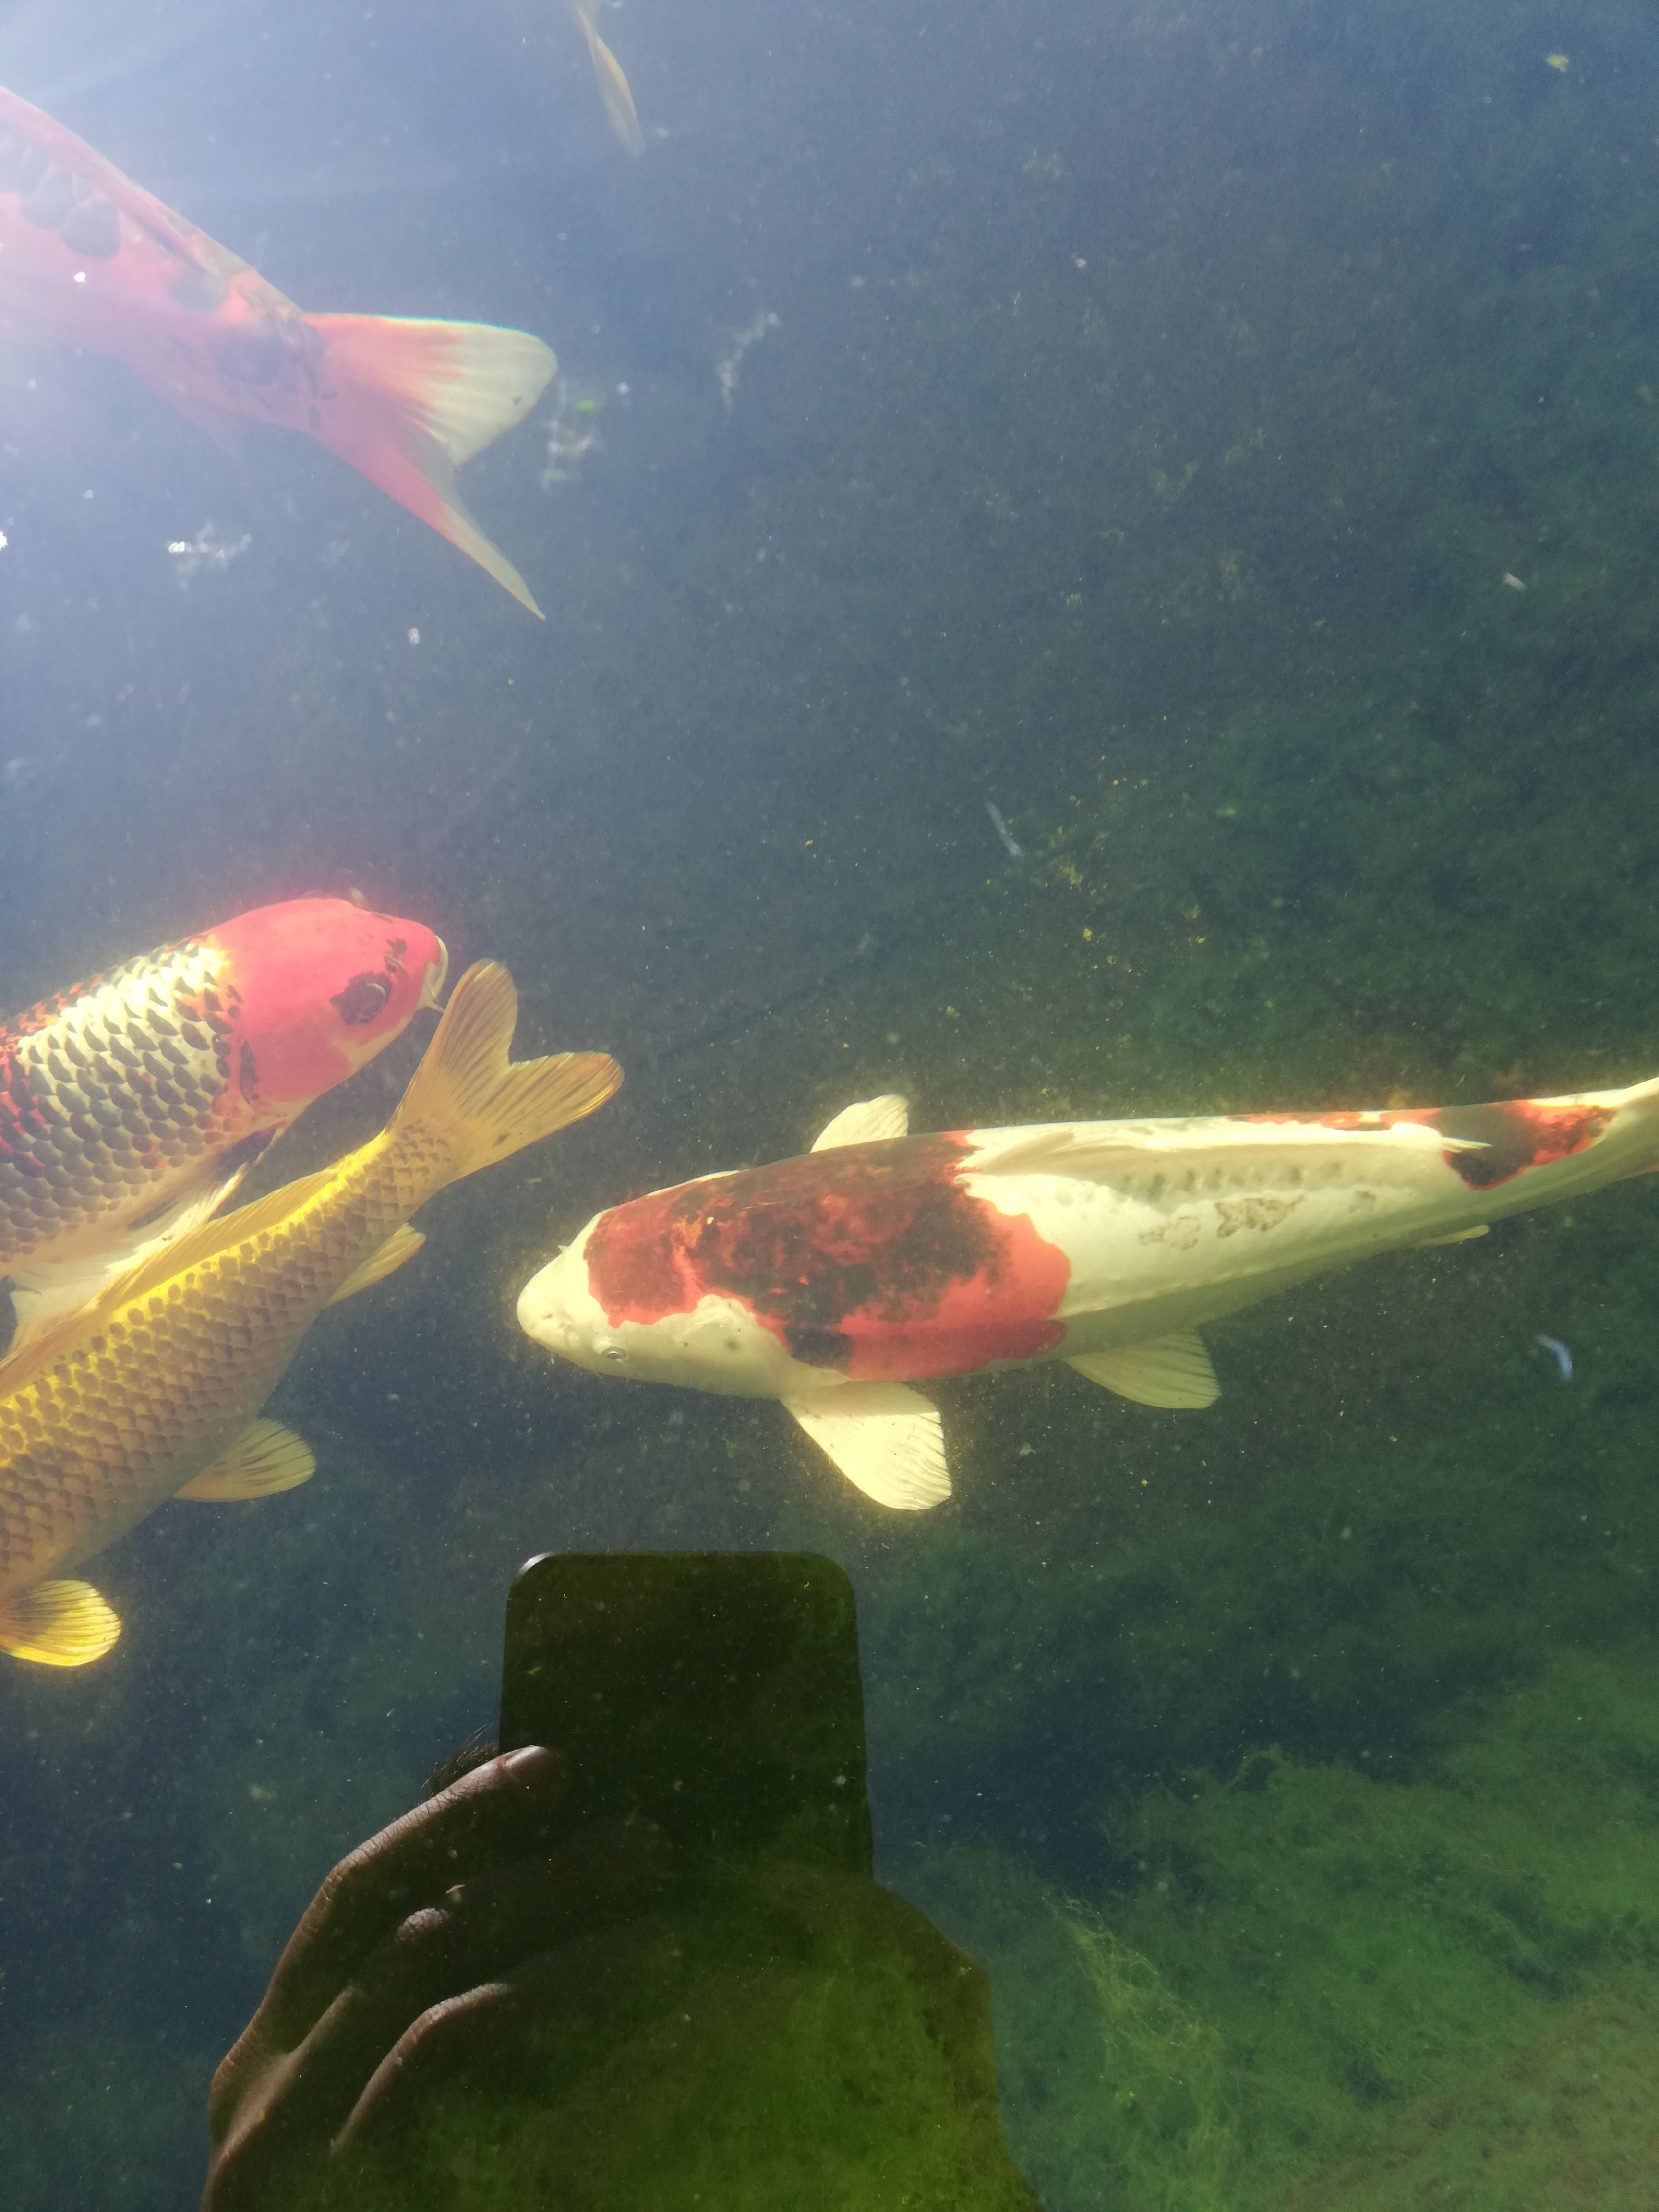Wallie: (439, 981, 1659, 1522)
